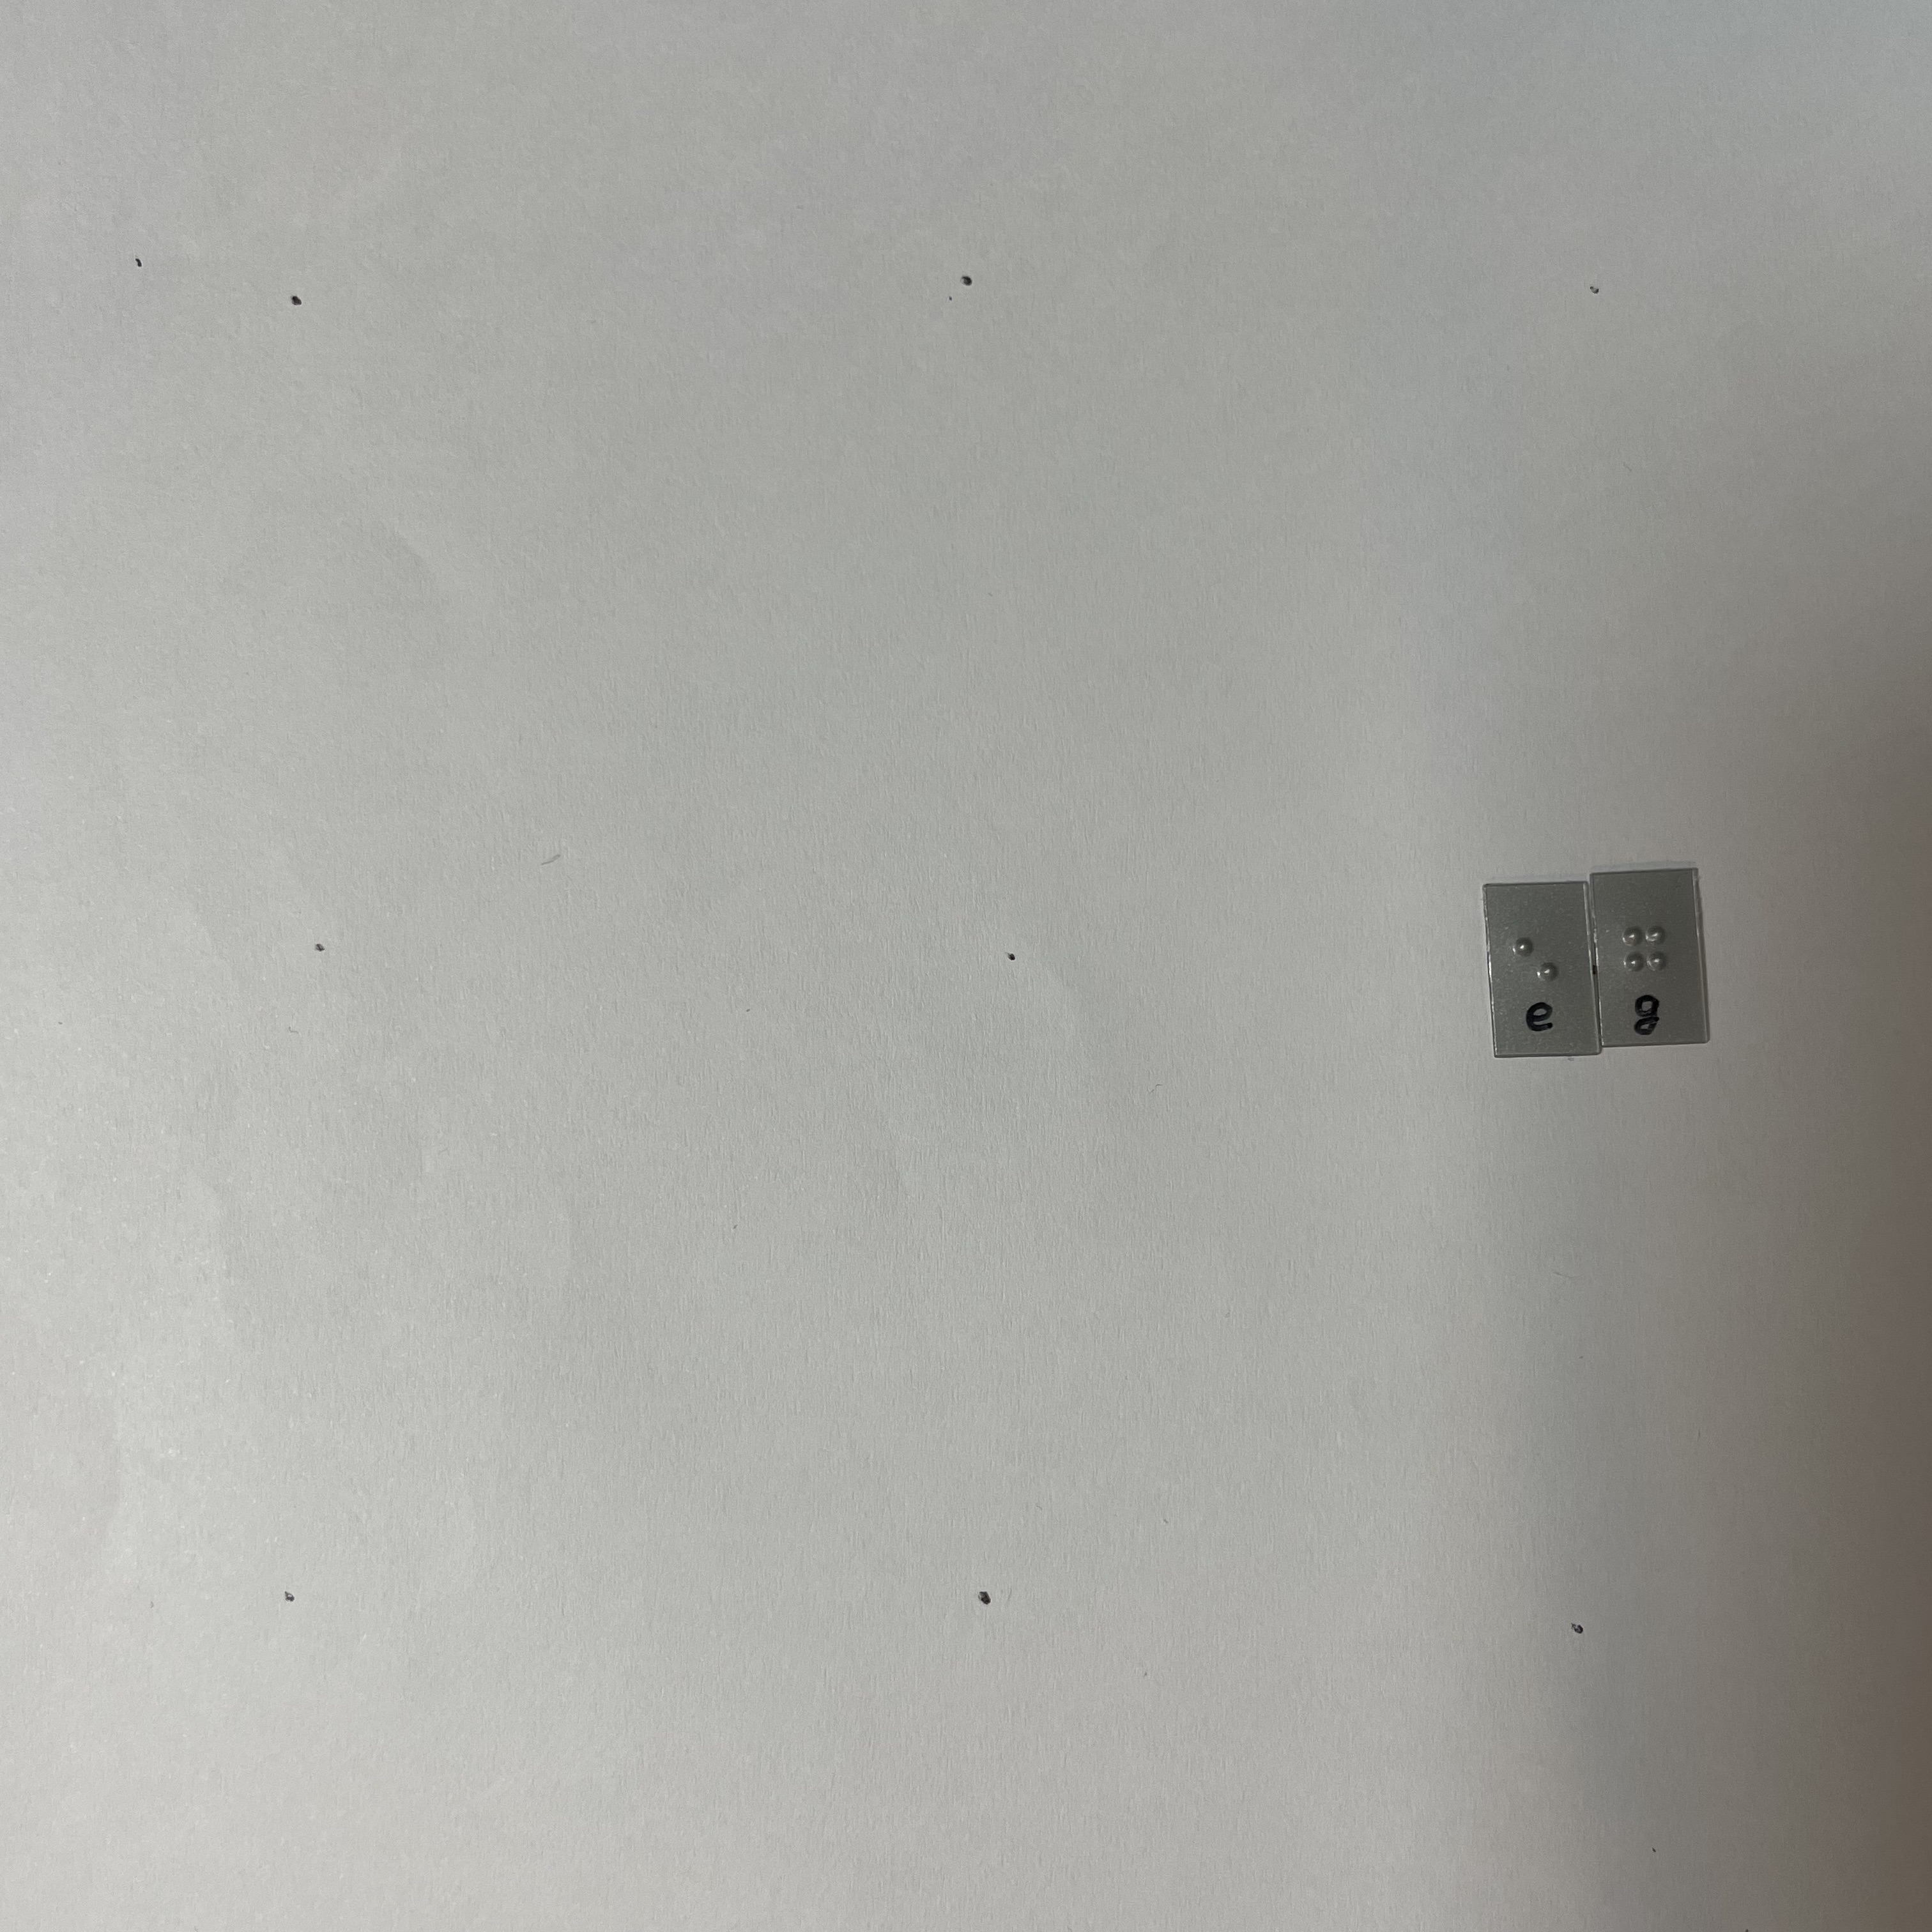e: (1516, 927, 1560, 1000)
g: (1624, 914, 1670, 991)
